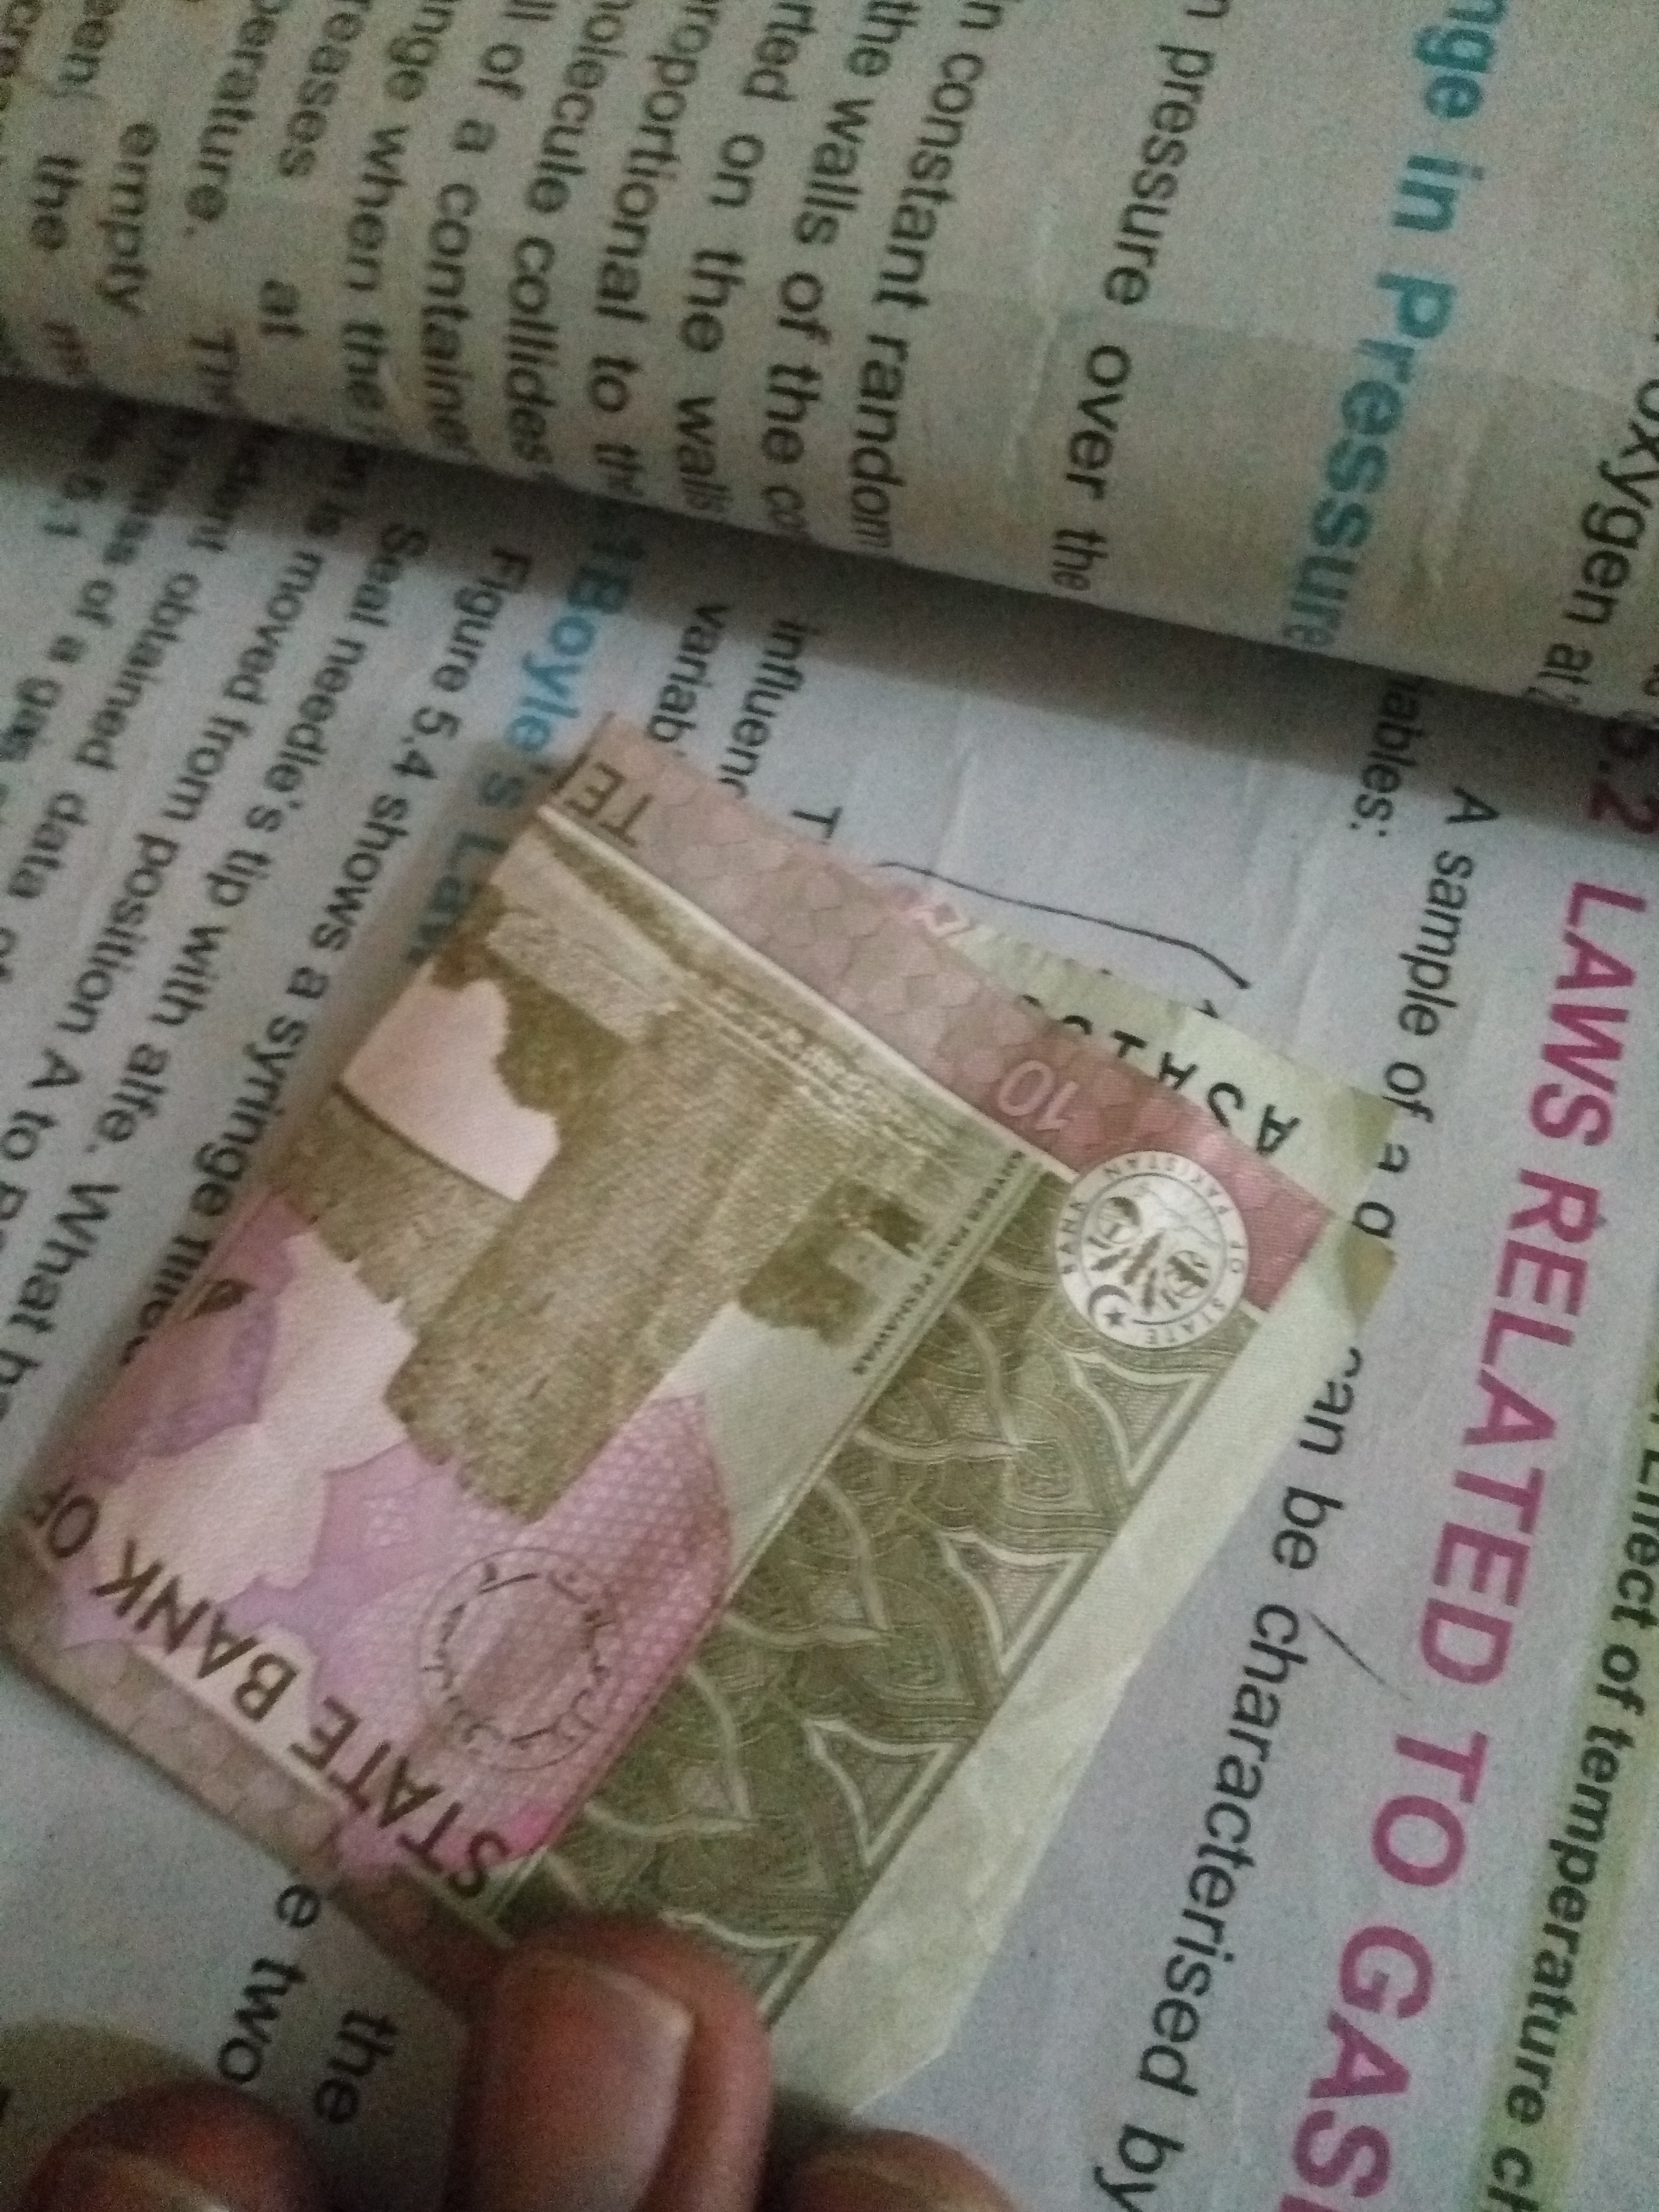10 rupee: (10, 683, 1399, 2104)
